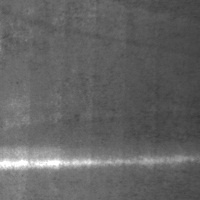scratches: (0, 146, 198, 173)
